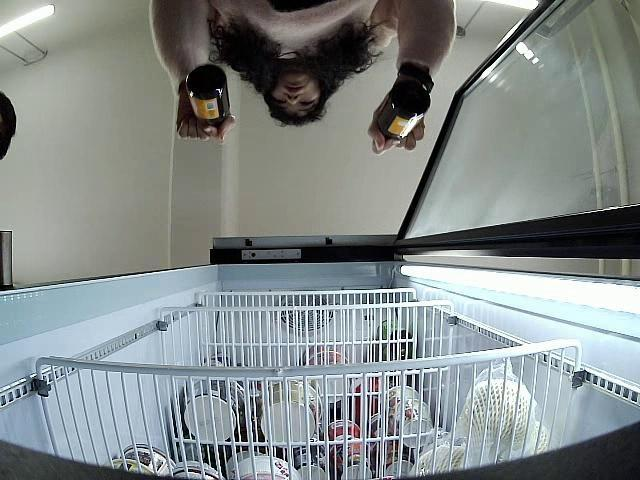17_vita500: (374, 84, 430, 142), (183, 65, 230, 127)
